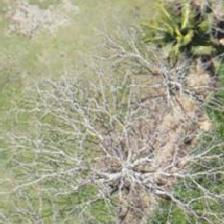coconut_tree: (135, 0, 223, 76)
